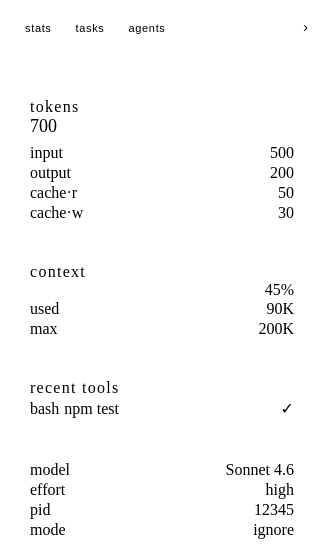
MetaPanel › switches to tasks tab
What coordinates should you click on to do the following:
click the button "tasks"
I would click on:
 (90, 28)
Its box is [66,16,114,38].
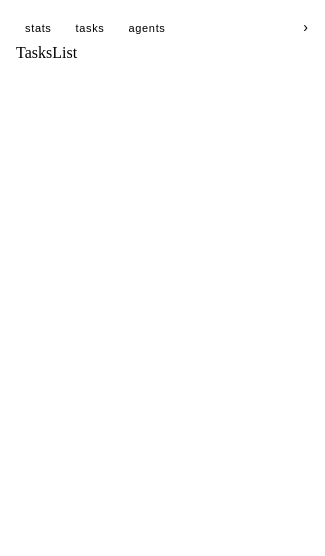
Check: the text "TasksList" is shown, box [16,44,77,61]
